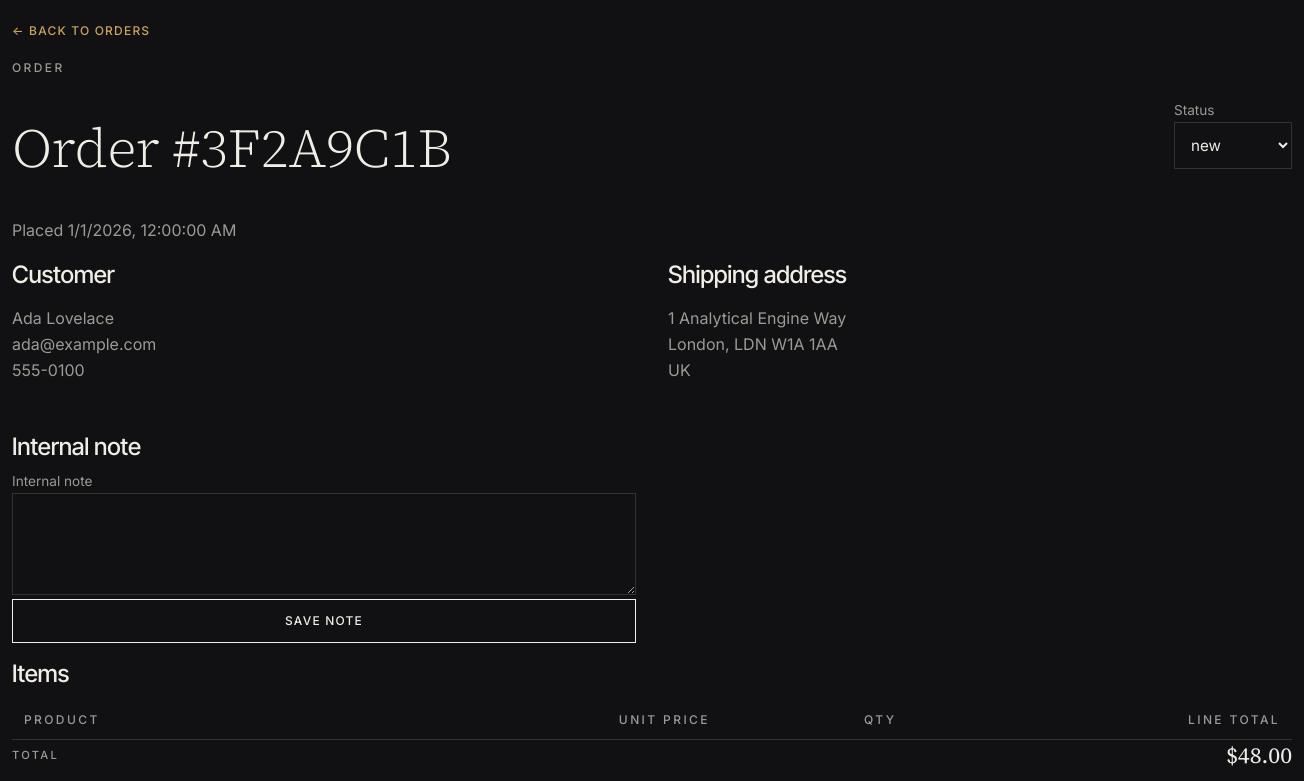
Test: OrderDetailPage › saves the internal note and shows a "Note saved." status message
Type "Call first" into the text box labelled "Internal note" at (324,544), box 12,493 -> 636,595
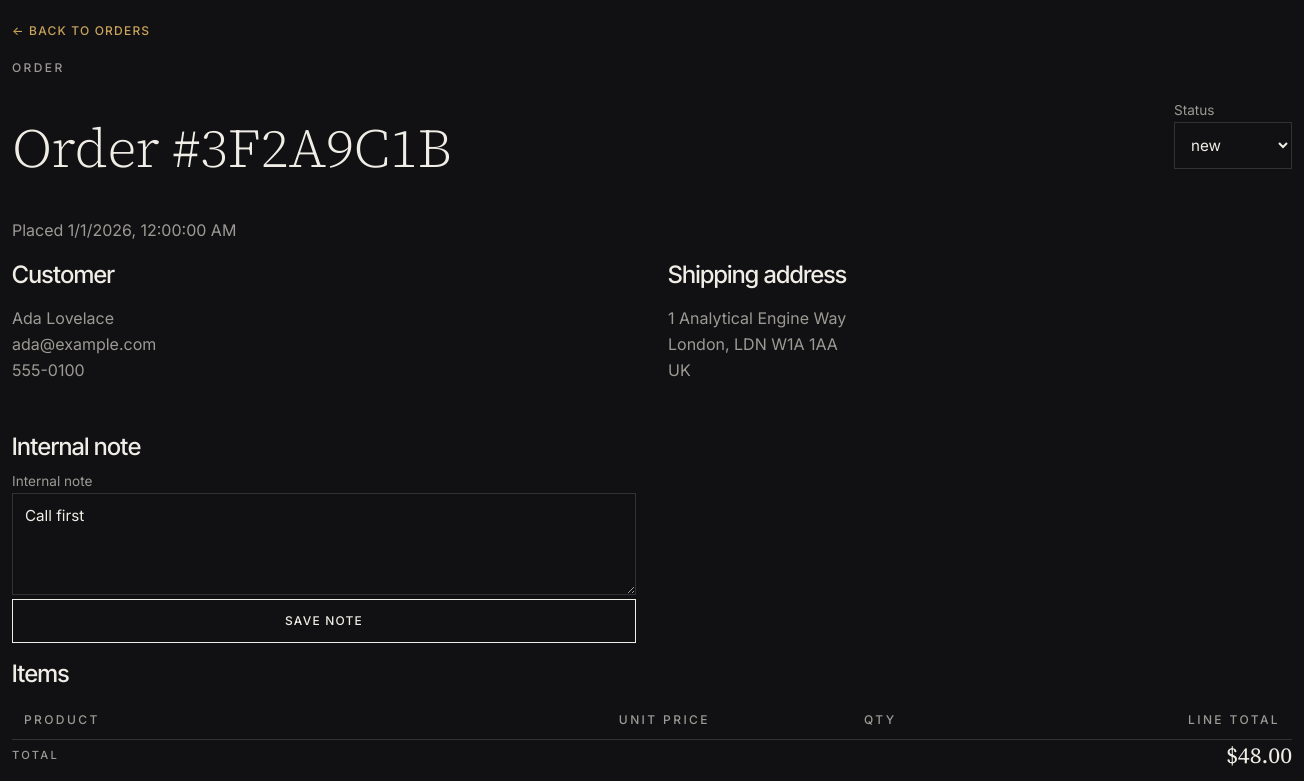
Click the button "Save note" at (324,621), box 12,599 -> 636,643
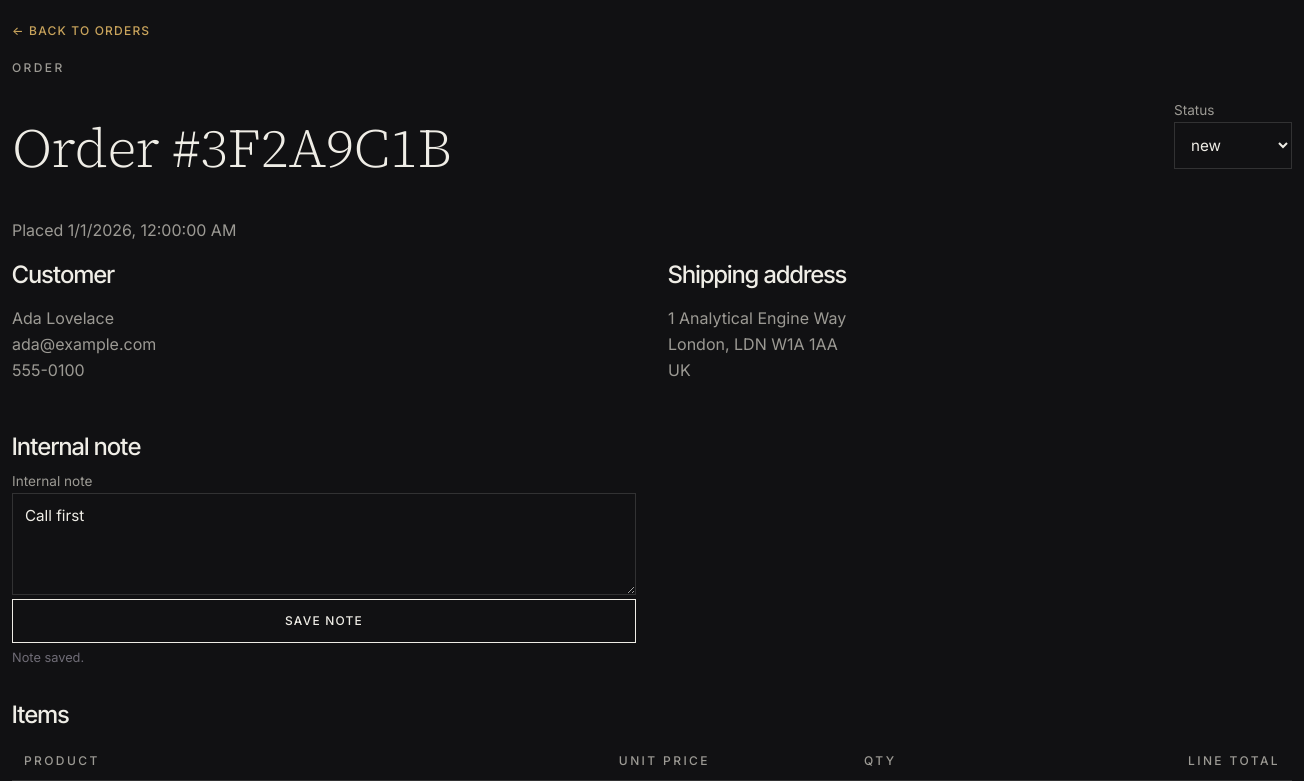
Expected: the message reads "Note saved.", 12,650 -> 84,665
